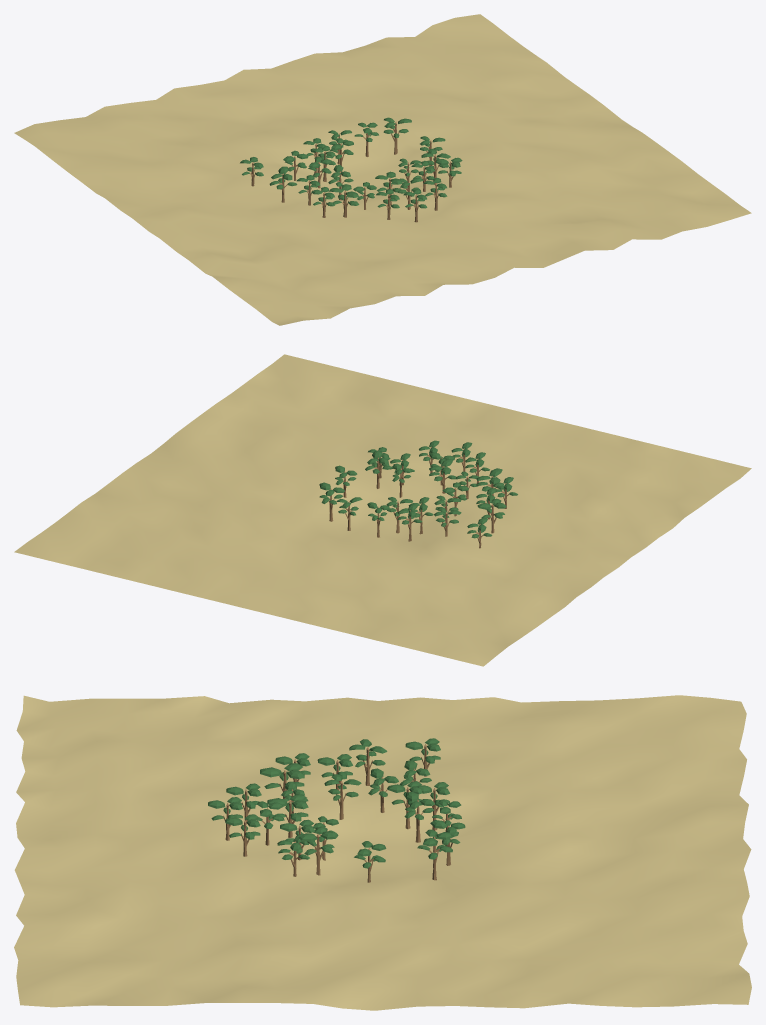
The model's file is Level_01_ground.fbx.
3 renders of one model, top to bottom at view 1: azimuth 30°, elevation 25°; view 2: azimuth 150°, elevation 25°; view 3: azimuth 270°, elevation 25°, orthographic. The views are drawn at different scales.
Parts seen in each view (by area): view 1: ground1; view 2: ground1; view 3: ground1.
Part boxes in pixels (left/top/right/bottom): ground1: left=14, top=14, right=751, bottom=325; ground1: left=14, top=354, right=751, bottom=666; ground1: left=14, top=695, right=751, bottom=1010.
Bounding box in the file's own units: 101 × 7.34 × 101.
